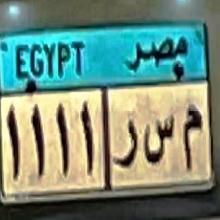1: (74, 98, 100, 176), (50, 95, 72, 180), (3, 106, 24, 184), (28, 104, 48, 176)
meem: (181, 104, 203, 174)
raa: (112, 114, 139, 176)
seen: (142, 112, 174, 171)
